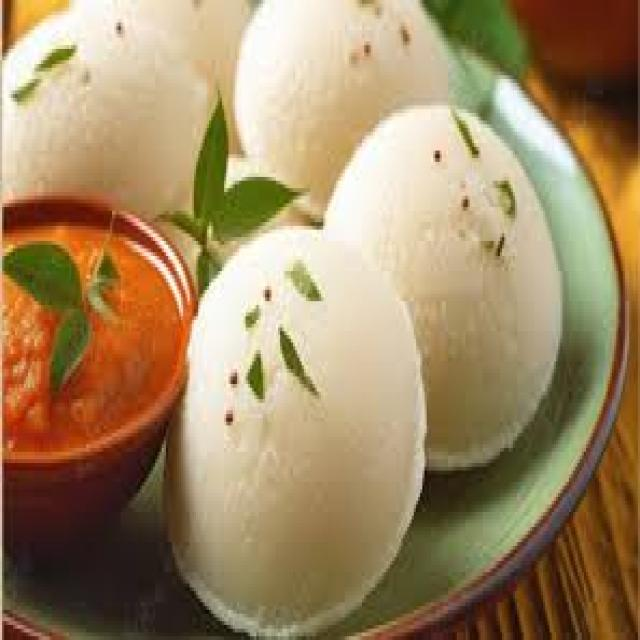IDLI: (168, 226, 425, 632), (328, 113, 560, 467), (4, 0, 254, 215), (235, 0, 448, 200)
